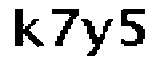5: (115, 6, 150, 48)
7: (48, 7, 80, 48)
k: (8, 5, 45, 49)
y: (81, 16, 113, 60)
